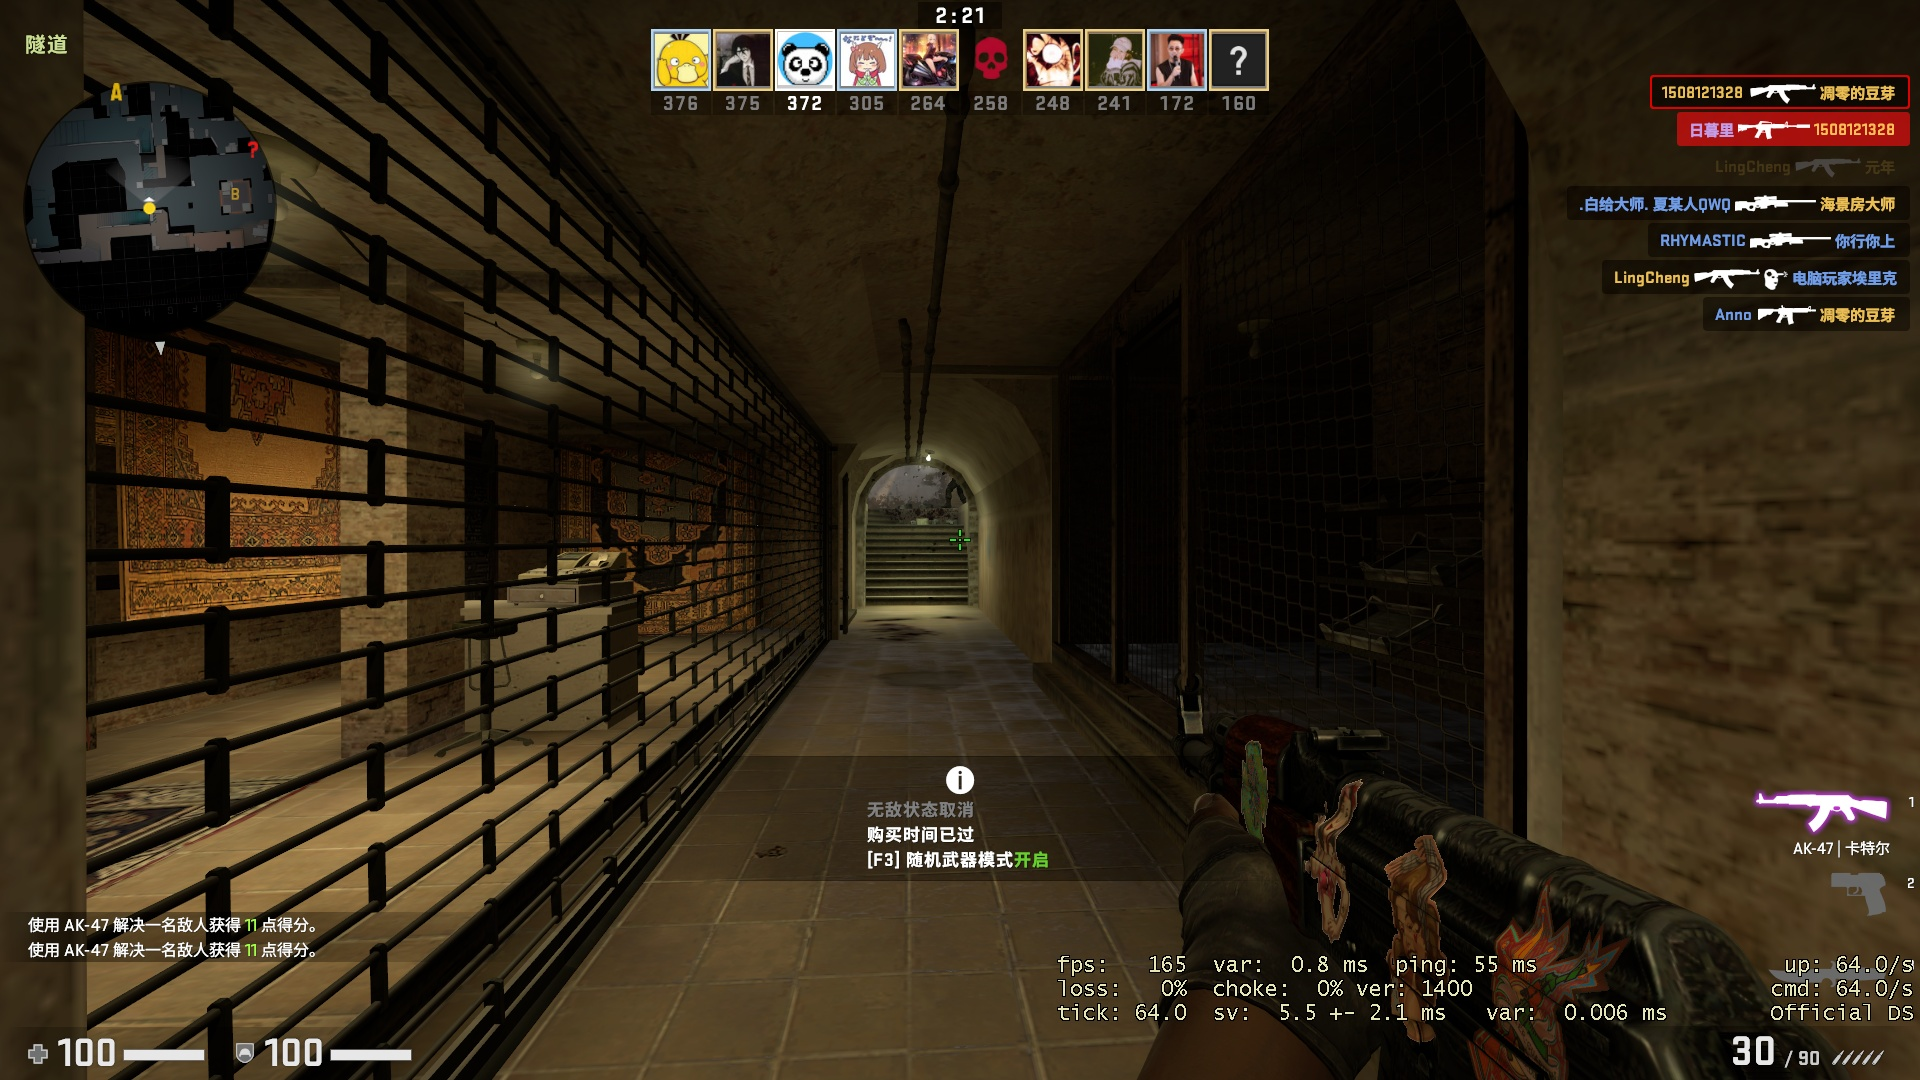body: (943, 477, 968, 506)
